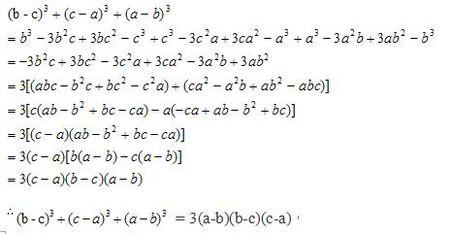cube: (312, 25, 319, 37), (429, 26, 436, 38), (164, 3, 172, 13), (166, 27, 174, 37), (281, 27, 289, 37), (161, 210, 169, 220), (138, 28, 146, 37), (102, 3, 109, 13), (48, 207, 54, 218), (43, 3, 48, 14), (26, 27, 32, 35), (105, 208, 109, 218)
